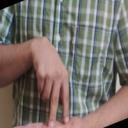hand: (31, 36, 70, 128)
